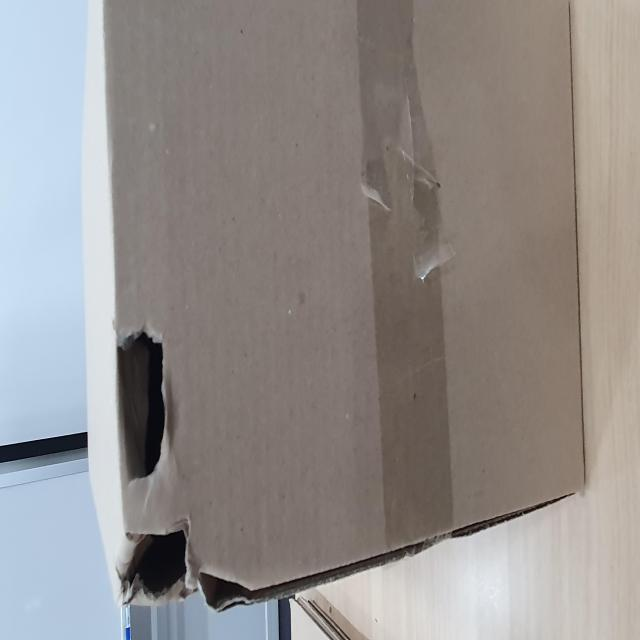damaged: (80, 191, 182, 310), (21, 208, 73, 346)
